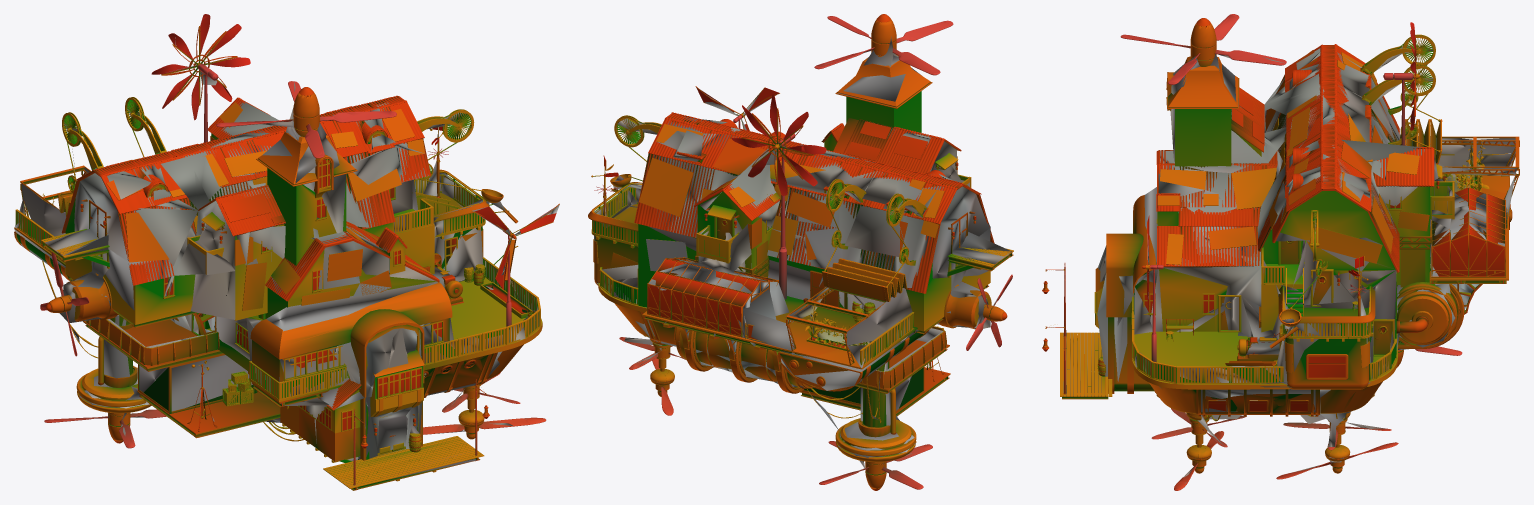
File: KB3D_CSK_BldgMdFlyingFarm_A.glb
The picture shows the model from 3 angles, left to right: view 1: azimuth 30°, elevation 25°; view 2: azimuth 150°, elevation 25°; view 3: azimuth 270°, elevation 25°; orthographic projection. The views are drawn at different scales.
Parts seen in each view (by area): view 1: L0, L1, L2; view 2: L0, L1, L2; view 3: L0, L1, L2.
Boxes of the visible parts, box(x1,y1,x2,y2) form: L0: box(14, 14, 559, 490); L1: box(14, 16, 556, 488); L2: box(14, 37, 559, 486); L0: box(588, 14, 1013, 490); L1: box(592, 17, 1013, 483); L2: box(593, 36, 1011, 473); L0: box(1042, 14, 1519, 490); L1: box(1043, 15, 1519, 489); L2: box(1063, 45, 1516, 483).
Bounding box in the file's own units: 28.75 × 25.22 × 27.84.
